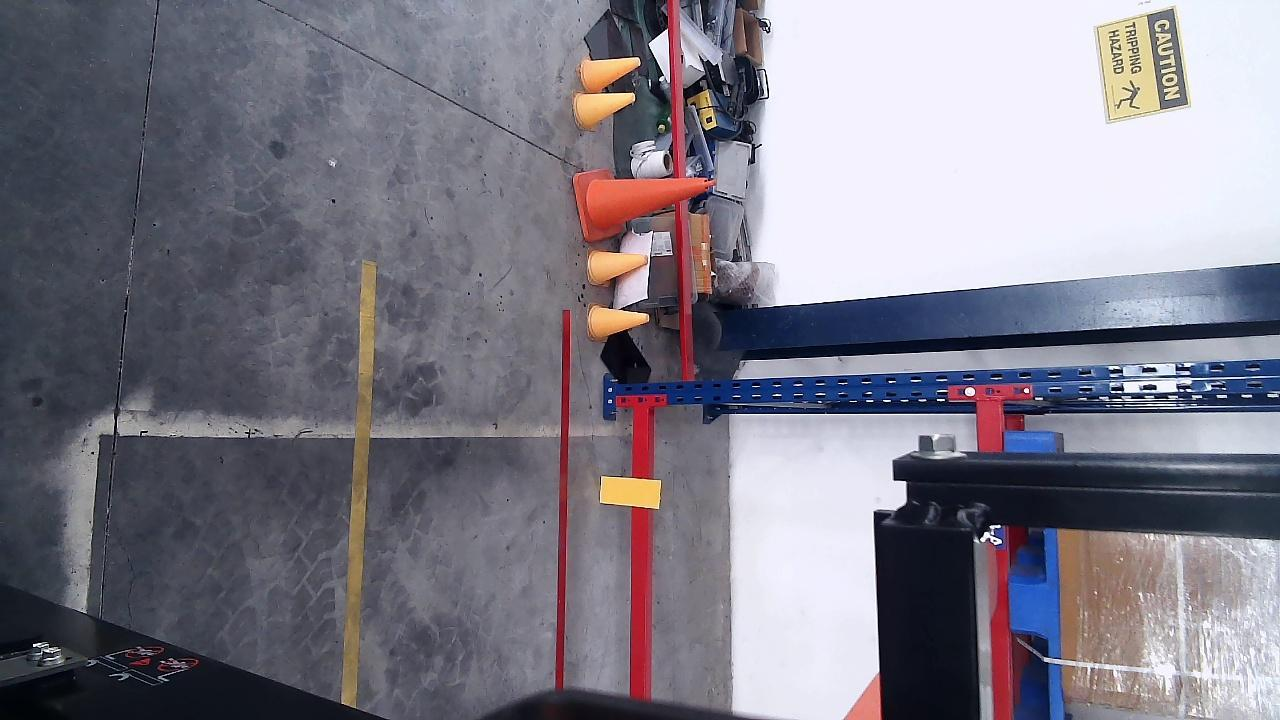h_rack: (628, 405, 654, 701)
orange_strip: (602, 478, 661, 509)
red_line: (556, 308, 571, 691)
small_pallet: (1005, 431, 1066, 720)
yellow_line: (340, 260, 376, 711)
